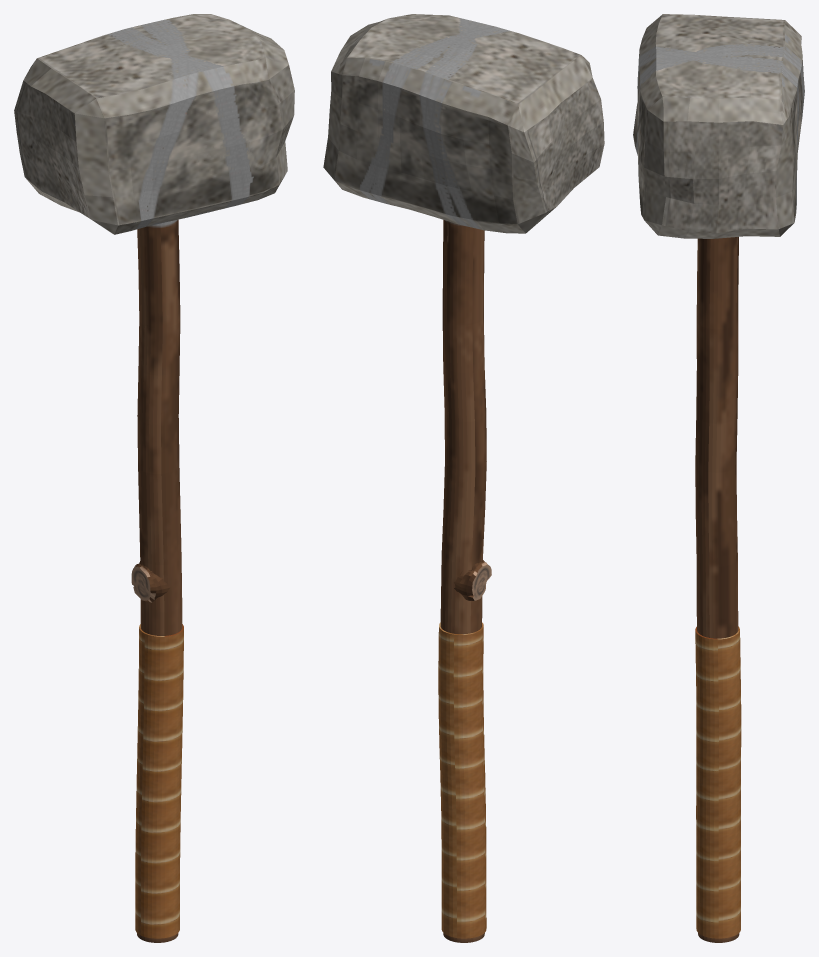
Rendered from SkullCrusher.fbx.
3 renders of one model, left to right at view 1: azimuth 30°, elevation 25°; view 2: azimuth 150°, elevation 25°; view 3: azimuth 270°, elevation 25°, orthographic.
Parts seen in each view (by area): view 1: Couro; view 2: Couro; view 3: Couro.
Part boxes in pixels (<box>): Couro: <box>14,14,294,942</box>; Couro: <box>323,14,604,942</box>; Couro: <box>633,14,804,942</box>.
Size of the model in its own units: 2.3 by 8.73 by 1.54.
